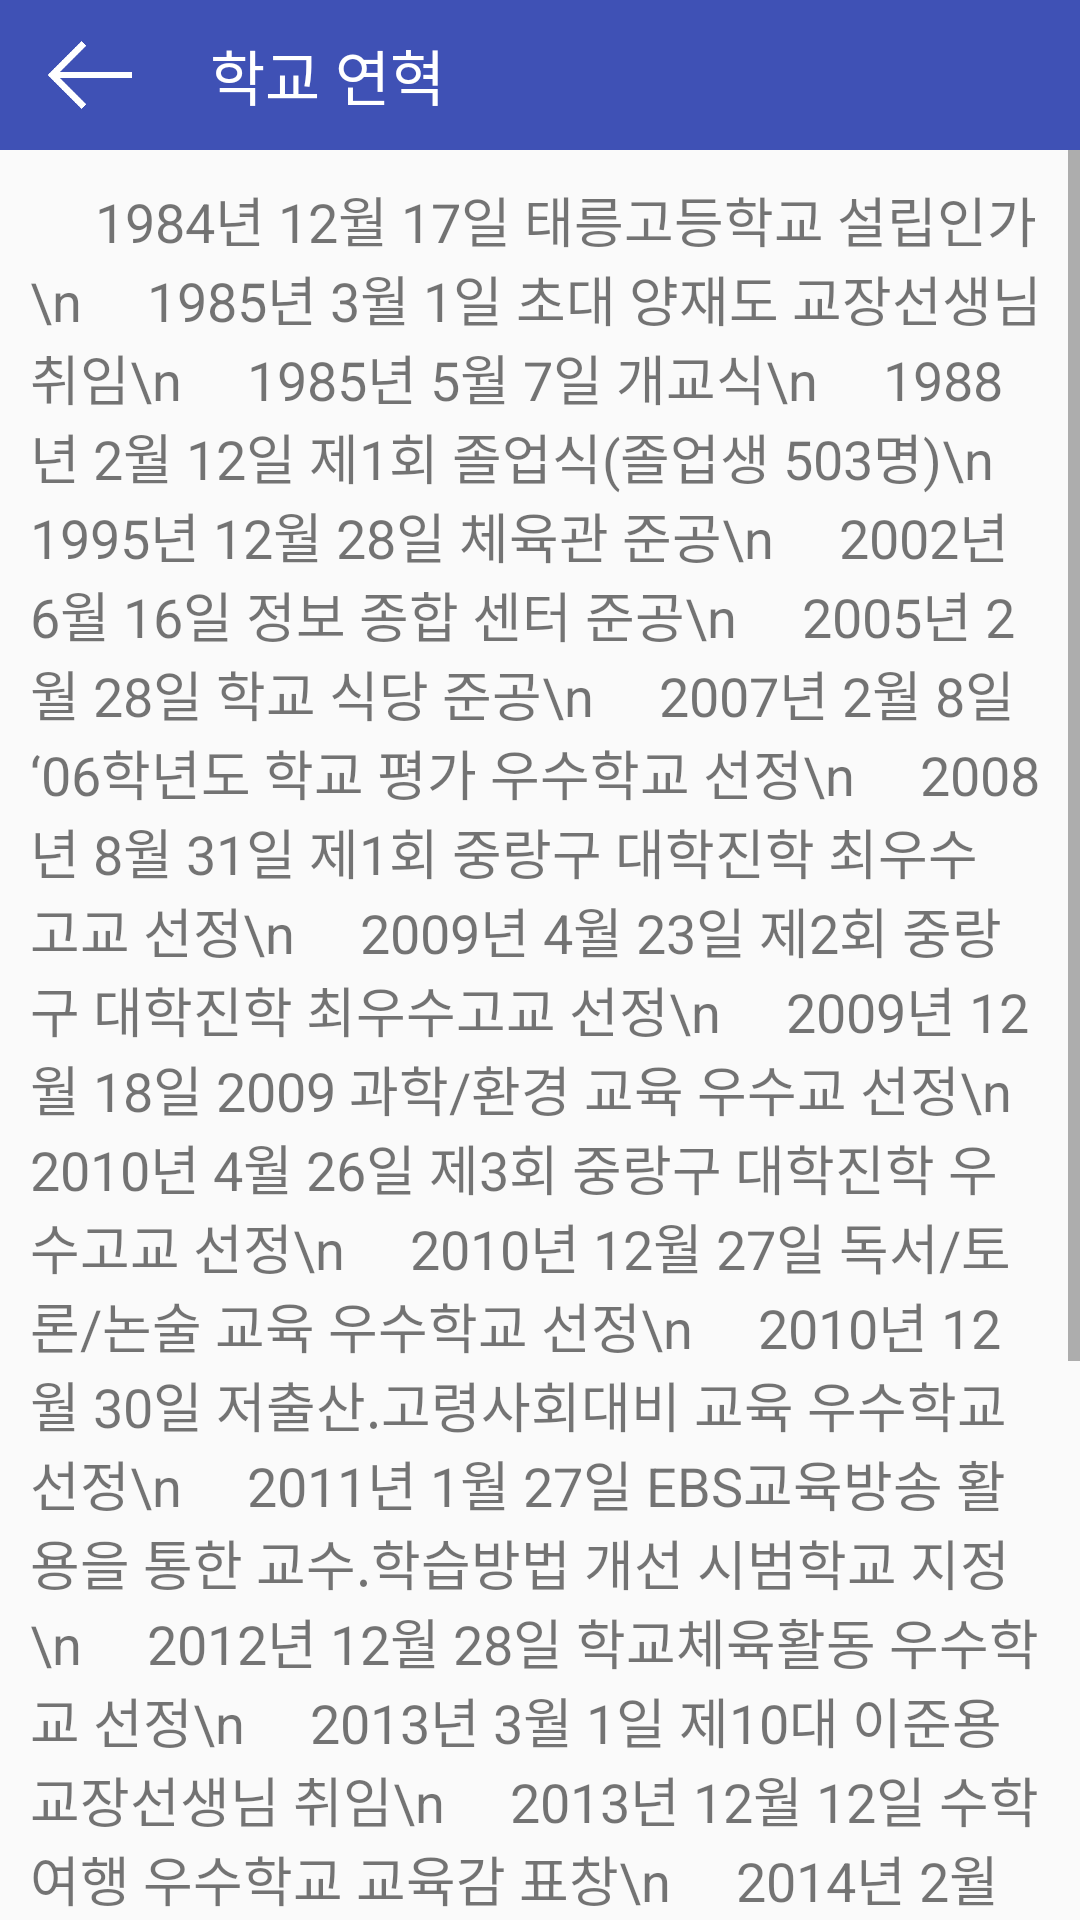

Named icons in this screenshot (1080px x 1920px) and their bounding boxes, (x1, y1, x2, y2):
back: (48, 41, 132, 109)
